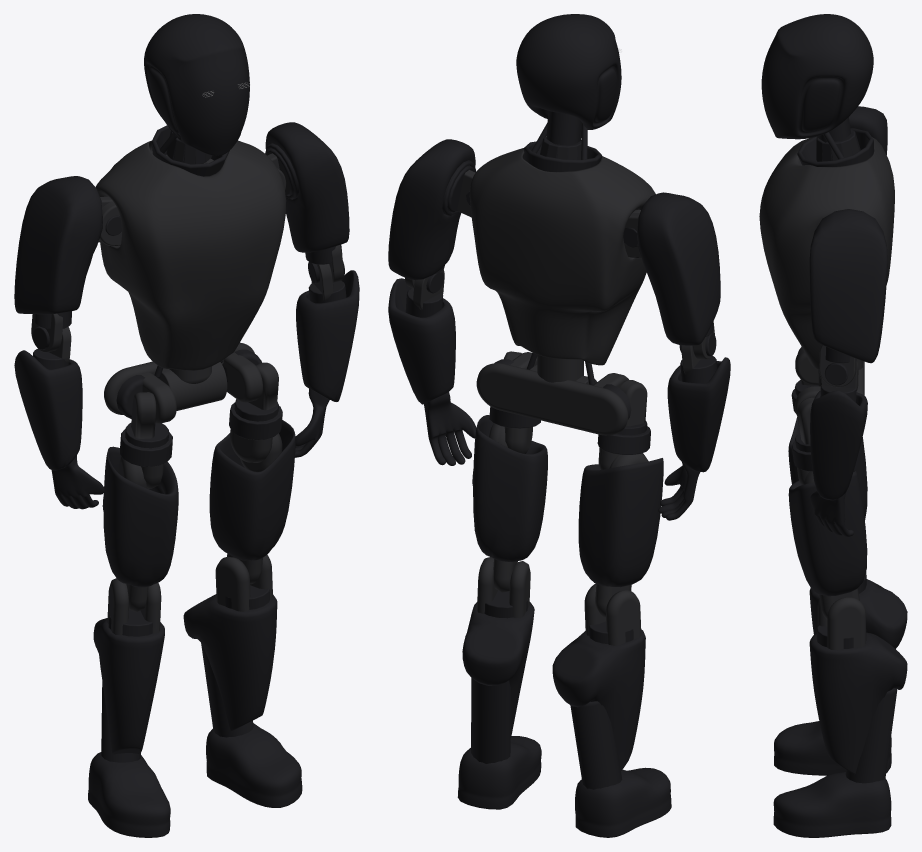
File: nexbot.glb
The picture shows the model from 3 angles, left to right: view 1: azimuth 30°, elevation 25°; view 2: azimuth 150°, elevation 25°; view 3: azimuth 270°, elevation 25°; orthographic projection.
Parts seen in each view (by area): view 1: Body, Cube 3 (×4), Cube 2 (×2), Cube 4 (×2), Head 2, Cube 5 (×2), Hand (×2), Rectangle 5 (×2), Rectangle 11 (×2), Ellipse 3 (×2), Ellipse 5 (×2), Rectangle 7 (×2) (+9 smaller); view 2: Body, Cube 3 (×4), Cube 2 (×2), Cube 4 (×2), Head 2, Cube 5 (×2), Rectangle 4, Ellipse 5 (×2), Hand (×2), Rectangle 12 (×2), Ellipse 3 (×2), Ellipse 4 (×2) (+6 smaller); view 3: Body, Cube 3 (×3), Cube 2 (×2), Head 2, Cube 4 (×2), Cube 5 (×2), Ellipse 5 (×2), Rectangle 12, Cylinder 3, Hand, Neck, Rectangle 5 (+6 smaller).
Boxes of the visible parts, box(x1,y1,x2,y2) form: Body: box(95, 140, 286, 370); Cube 3 (×4): box(14, 270, 359, 587); Cube 2 (×2): box(14, 122, 349, 314); Cube 4 (×2): box(93, 594, 277, 754); Head 2: box(144, 14, 249, 155); Cube 5 (×2): box(88, 723, 302, 837); Hand (×2): box(51, 388, 329, 509); Rectangle 5 (×2): box(140, 351, 262, 423); Rectangle 11 (×2): box(140, 557, 250, 633); Ellipse 3 (×2): box(120, 402, 282, 466); Ellipse 5 (×2): box(101, 643, 253, 762); Rectangle 7 (×2): box(131, 362, 278, 438); Body: box(469, 148, 655, 365); Cube 3 (×4): box(388, 278, 730, 587); Cube 2 (×2): box(388, 139, 720, 345); Cube 4 (×2): box(462, 602, 645, 770); Head 2: box(516, 14, 621, 129); Cube 5 (×2): box(457, 736, 671, 837); Rectangle 4: box(476, 363, 628, 435); Ellipse 5 (×2): box(471, 678, 622, 789); Hand (×2): box(424, 392, 700, 520); Rectangle 12 (×2): box(477, 557, 641, 645); Ellipse 3 (×2): box(489, 406, 650, 454); Ellipse 4 (×2): box(405, 288, 717, 383); Body: box(759, 137, 894, 369); Cube 3 (×3): box(788, 390, 867, 596); Cube 2 (×2): box(809, 106, 887, 363); Head 2: box(761, 14, 873, 139); Cube 4 (×2): box(809, 579, 907, 774); Cube 5 (×2): box(773, 721, 891, 837); Ellipse 5 (×2): box(824, 363, 897, 783); Rectangle 12: box(827, 597, 865, 649); Cylinder 3: box(797, 128, 874, 166); Hand: box(810, 491, 853, 536); Neck: box(816, 129, 860, 161); Rectangle 5: box(795, 349, 818, 384).
Size of the model in its own units: 2.45 by 5.47 by 0.946.
Materials: 3 (1 with a texture image).
